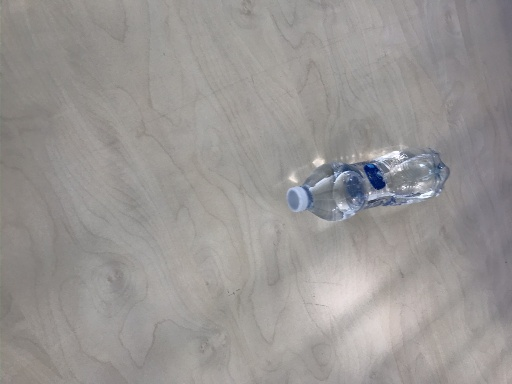Acqua: (287, 148, 450, 223)
